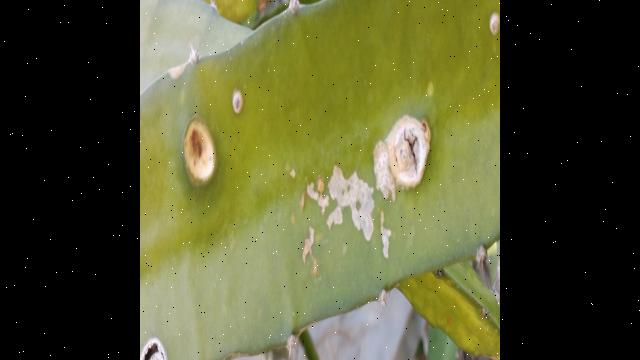stemcanker: (167, 117, 399, 288), (230, 87, 247, 114), (482, 11, 498, 39)
